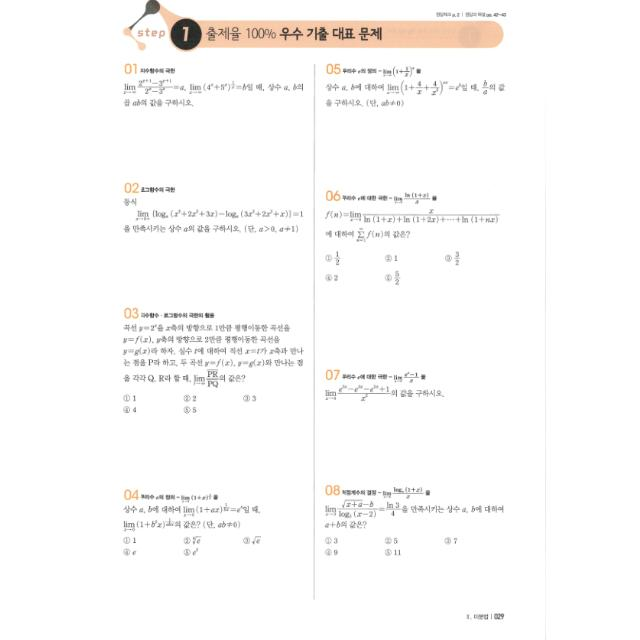multiple: (115, 295, 308, 429), (318, 182, 510, 296), (320, 479, 518, 566), (114, 479, 308, 566)
short: (112, 173, 308, 250), (112, 52, 310, 126), (316, 54, 514, 126), (318, 360, 522, 410)
